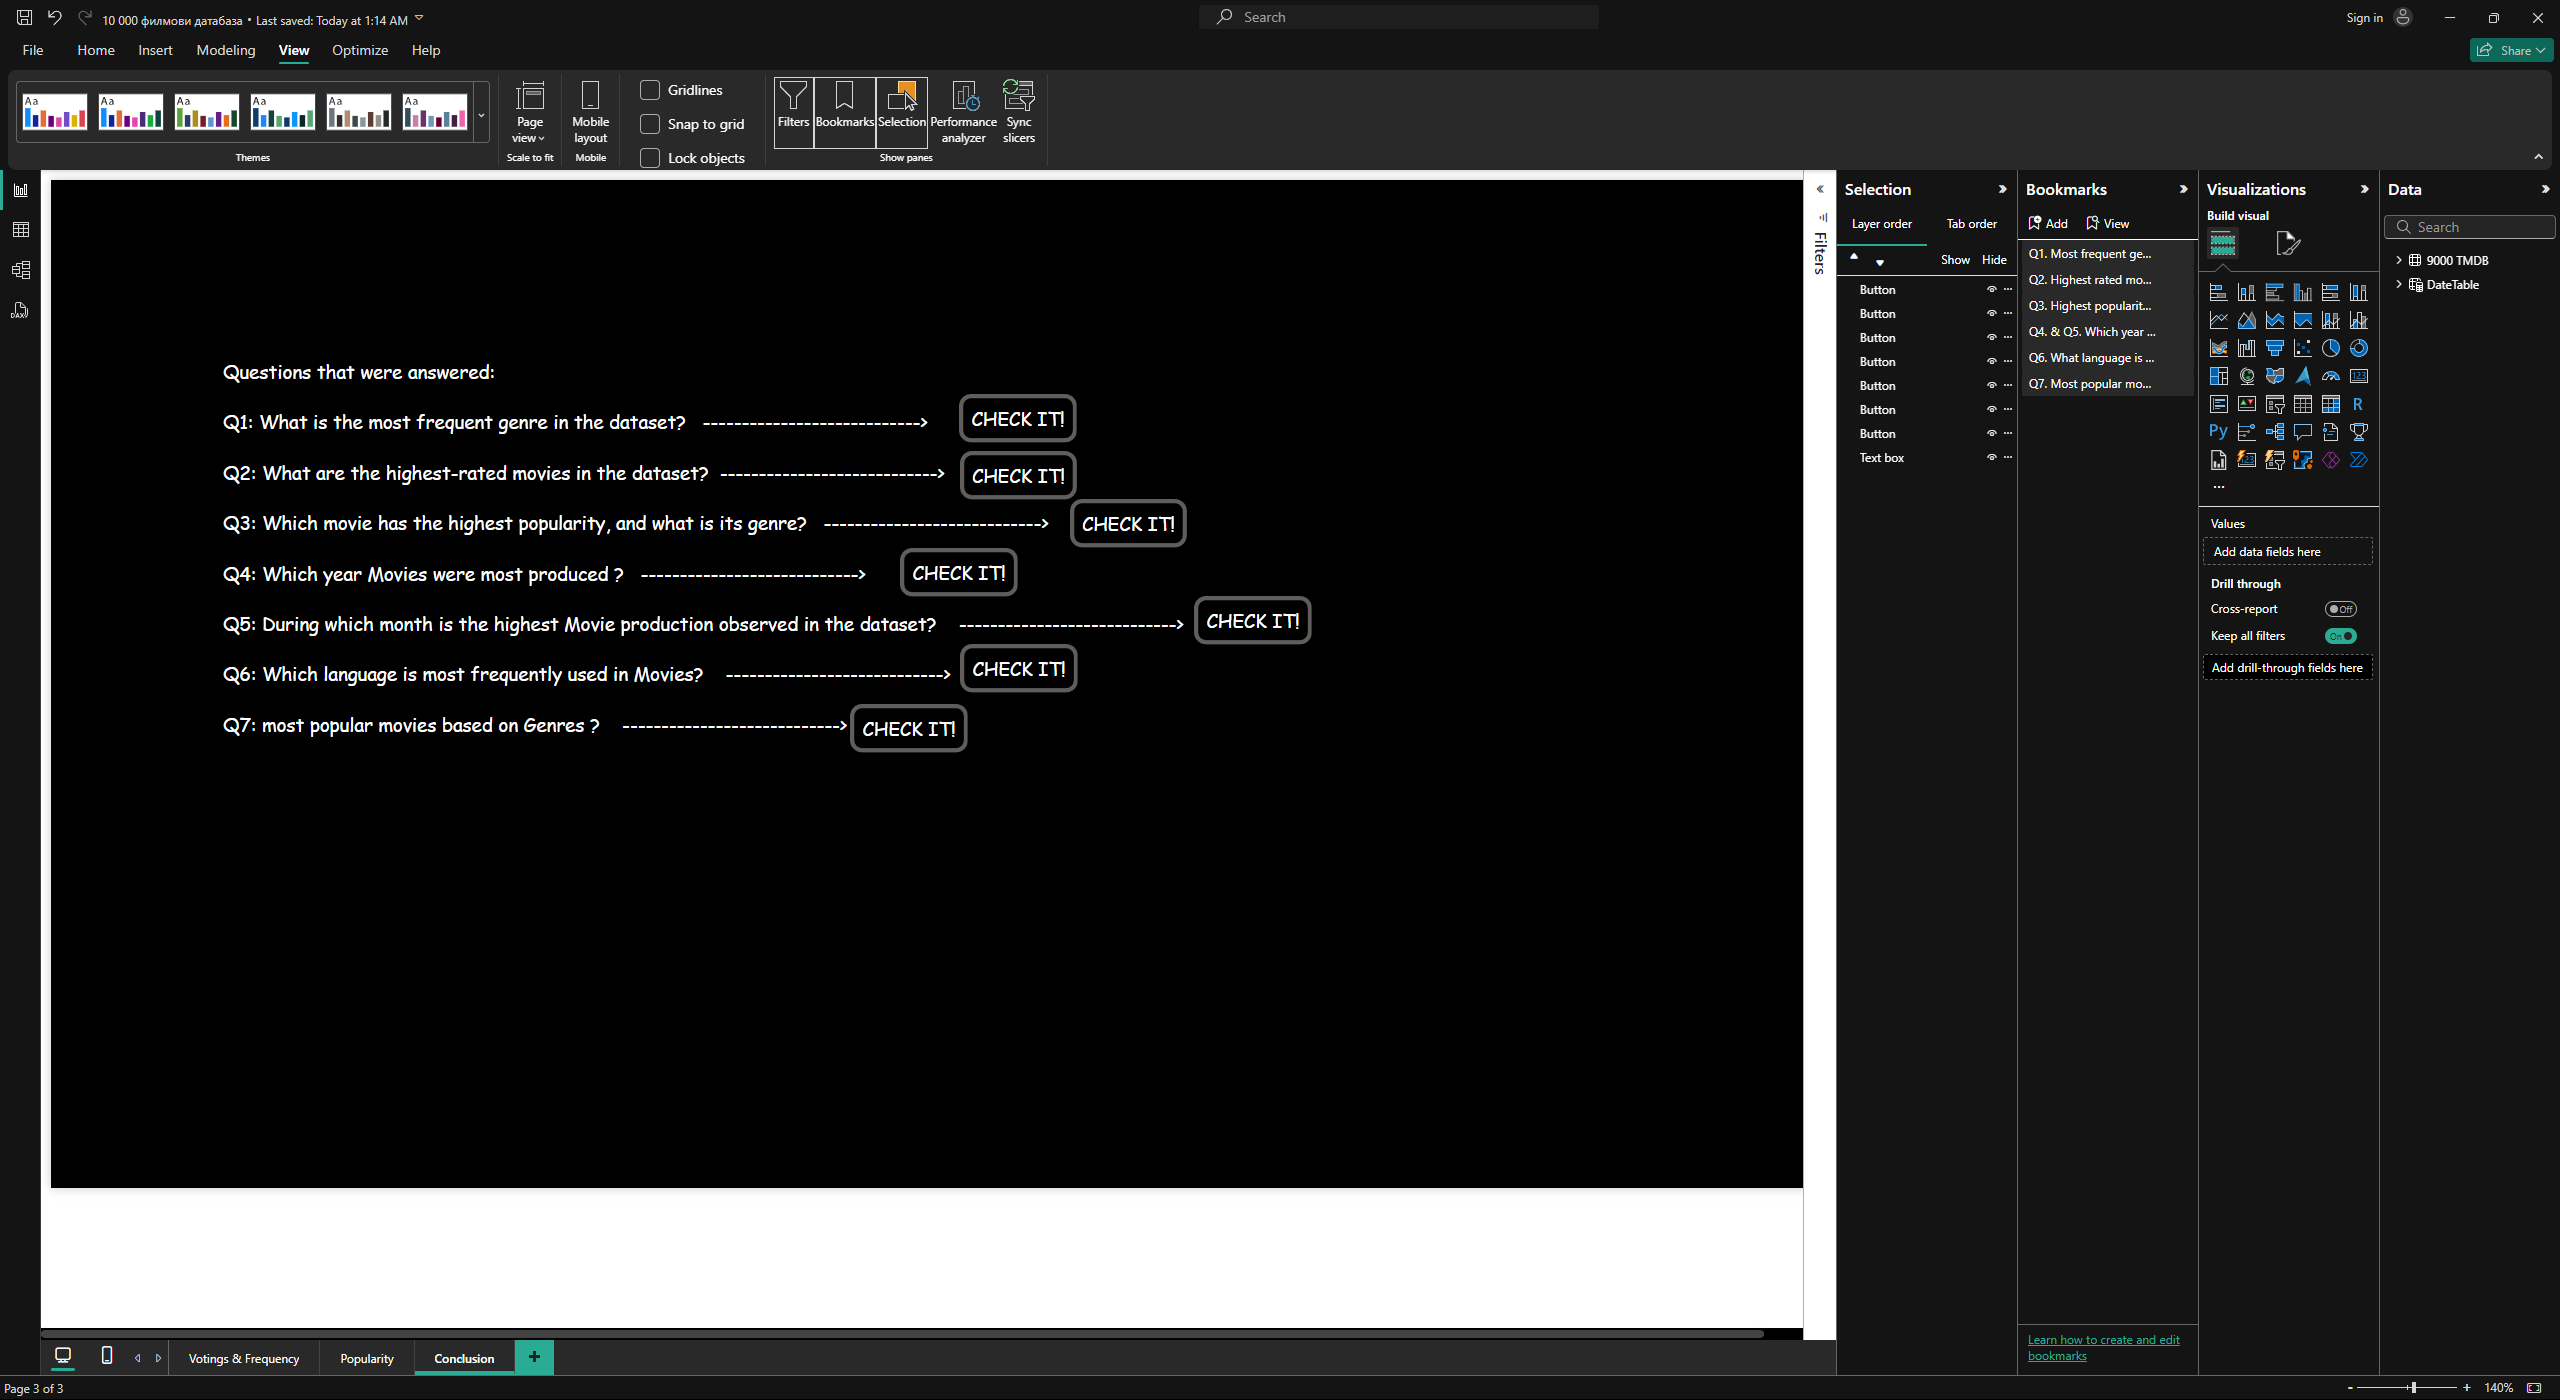

What the dashboard file says about the page in this screenshot:
{"tool":"powerbi","page":{"name":"Conclusion","canvas":[1280,720],"ordinal":2},"visuals":[{"type":"textbox","box":[117.8,122.4,865.1,488.2],"z":0},{"type":"actionButton","box":[570.9,374.2,84.3,34.5],"z":500},{"type":"actionButton","box":[649.6,331.6,84.3,34.5],"z":5000},{"type":"actionButton","box":[816.7,297.1,84.3,34.5],"z":5125},{"type":"actionButton","box":[606.3,262.6,84.3,34.5],"z":5250},{"type":"actionButton","box":[727.5,228.1,83.5,34.5],"z":5500},{"type":"actionButton","box":[649.6,193.5,83.5,34.5],"z":6000},{"type":"actionButton","box":[648.8,152.6,84.3,34.5],"z":6500}]}

Visuals, with their boxes on the page's 1280x720 design canvas (x1, y1, x2, y2). These are canvas units, not pixel positions in the 2560x1400 screenshot, which may show the page scaled, cropped or inside an application window:
textbox: [118,122,983,611]
actionButton: [571,374,655,409]
actionButton: [650,332,734,366]
actionButton: [817,297,901,332]
actionButton: [606,263,691,297]
actionButton: [728,228,811,263]
actionButton: [650,194,733,228]
actionButton: [649,153,733,187]
